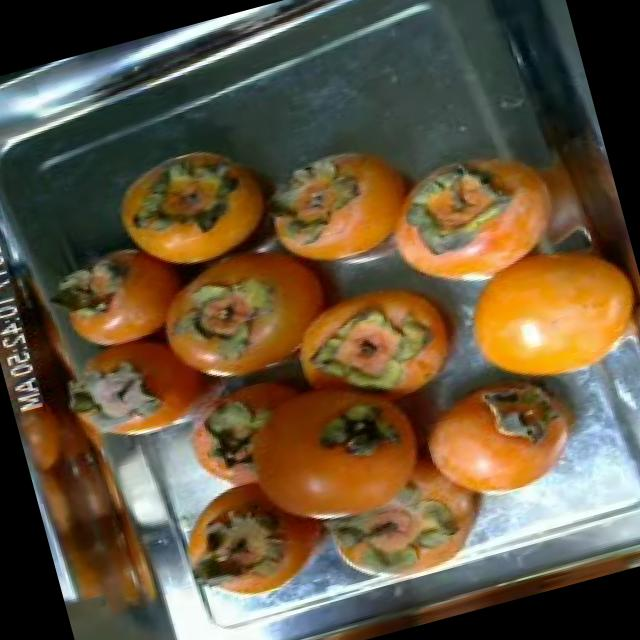Fruit: (432, 210, 640, 402), (237, 116, 449, 292), (164, 452, 357, 624), (92, 130, 269, 284)
